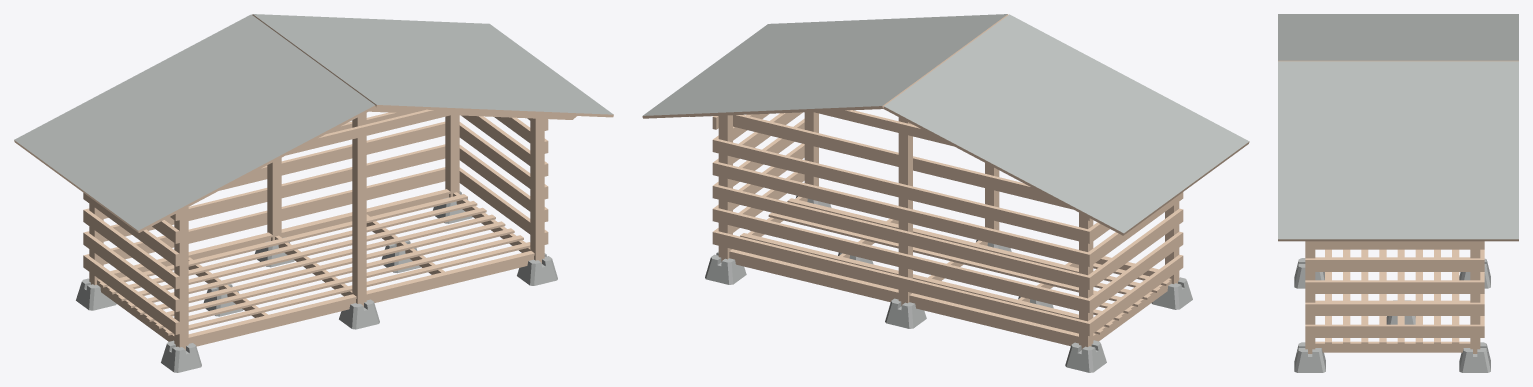
Rendered from scene_iI0WFODhC3.glb.
3 views of the same model, side by side, from view 1: azimuth 30°, elevation 25°; view 2: azimuth 150°, elevation 25°; view 3: azimuth 270°, elevation 25° (orthographic). The views are drawn at different scales.
Visible parts, largest first — view 1: Solid2:2, Solid2:1, Solid1:39, Solid1:40, Solid1:41, Solid1:30, Solid1:19, Solid1:34, Solid1:20, Solid1:21, Solid1:22, Solid1:23 (+29 smaller); view 2: Solid2:2, Solid2:1, Solid1:41, Solid1:42, Solid1:40, Solid1:43, Solid1:39, Solid1:44, Solid1:22, Solid1:25, Solid1:11, Solid1:12 (+22 smaller); view 3: Solid2:1, Solid2:2, Solid3, Solid3:1, Solid3:2, Solid3:4, Solid1:10, Solid3:3, Solid1:2, Solid1:3, Solid1:29, Solid1:34 (+12 smaller).
Boxes of the visible parts, box(x1,y1,x2,y2) form: Solid2:2: box(14, 14, 375, 232); Solid2:1: box(252, 14, 613, 117); Solid1:39: box(87, 167, 445, 264); Solid1:40: box(87, 144, 445, 241); Solid1:41: box(87, 121, 445, 218); Solid1:30: box(352, 113, 366, 306); Solid1:19: box(164, 242, 530, 335); Solid1:34: box(530, 118, 544, 263); Solid1:20: box(155, 235, 523, 328); Solid1:21: box(146, 228, 514, 321); Solid1:22: box(136, 221, 505, 314); Solid1:23: box(127, 214, 495, 307); Solid2:2: box(883, 14, 1249, 235); Solid2:1: box(642, 14, 1008, 118); Solid1:41: box(716, 185, 1087, 288); Solid1:42: box(716, 162, 1087, 265); Solid1:40: box(716, 208, 1087, 311); Solid1:43: box(716, 139, 1087, 242); Solid1:39: box(716, 231, 1087, 334); Solid1:44: box(733, 115, 1072, 209); Solid1:22: box(768, 212, 1141, 306); Solid1:25: box(740, 233, 1113, 327); Solid1:11: box(909, 297, 1078, 346); Solid1:12: box(729, 253, 898, 302); Solid2:1: box(1278, 61, 1518, 241); Solid2:2: box(1278, 14, 1518, 61); Solid3: box(1305, 324, 1484, 337); Solid3:1: box(1305, 280, 1484, 293); Solid3:2: box(1305, 302, 1484, 315); Solid3:4: box(1305, 258, 1484, 271); Solid1:10: box(1315, 341, 1470, 352); Solid3:3: box(1305, 241, 1484, 249); Solid1:2: box(1459, 342, 1490, 372); Solid1:3: box(1294, 342, 1325, 372); Solid1:29: box(1470, 249, 1480, 353); Solid1:34: box(1305, 249, 1315, 353).
Bounding box in the file's own units: 186 × 85.04 × 84.
